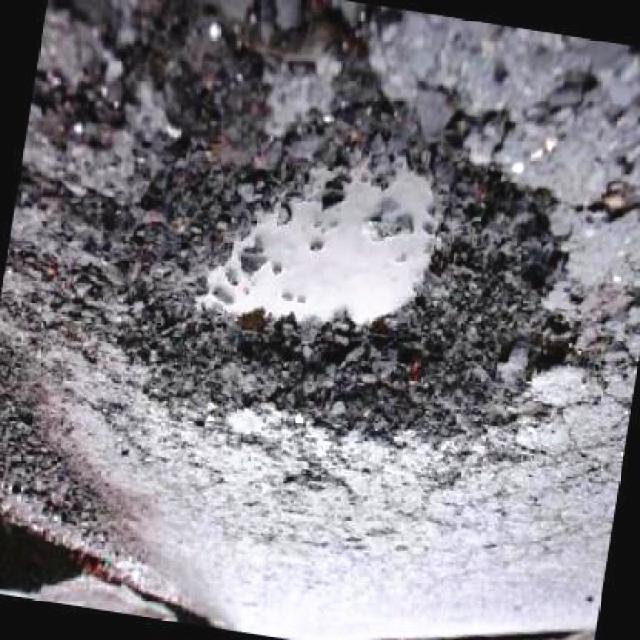pothole: (100, 68, 580, 449)
